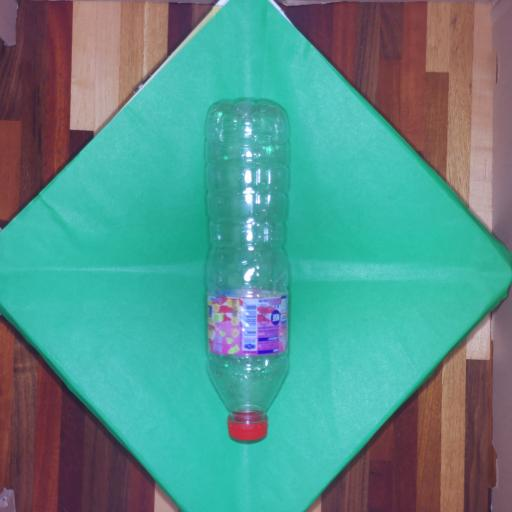bottle: (199, 86, 296, 450)
